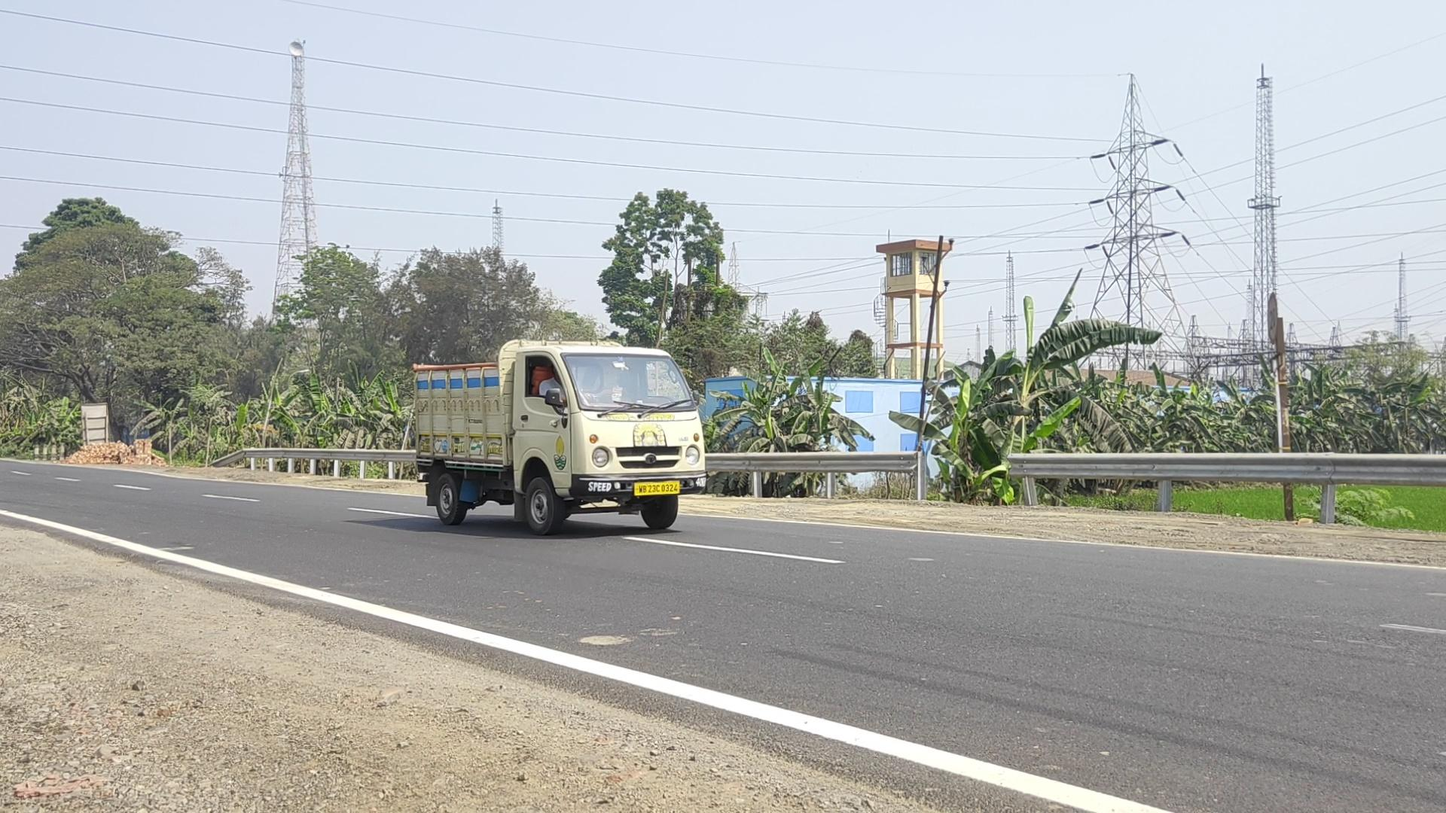van: (412, 340, 707, 535)
